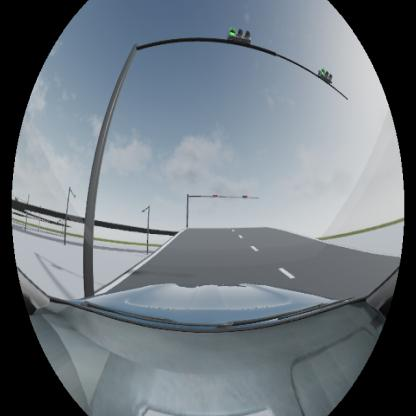Green Light: (226, 26, 251, 47), (319, 67, 334, 85)
